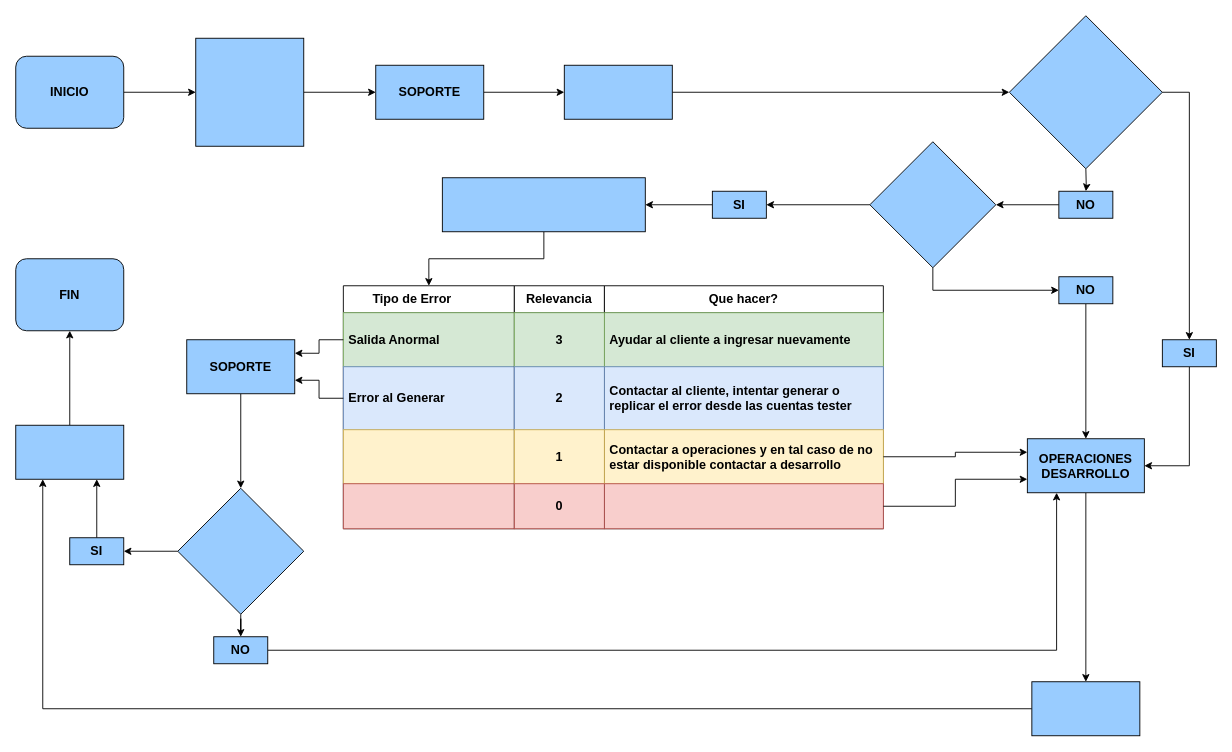
Image size: 1232x752. Some labels were removed from this diagram. Here are the shapes that lost their labels. From the top down, the centre of each, then its label:
At pixel 249 91: "Cliente contacta vía Email Llamada Otro".
At pixel 617 91: "Identificar tipo de error".
At pixel 1085 92: "Error referente a Ingenieria de PayDayCloud".
At pixel 543 204: "Relacionar el problema del cliente e identificar el nivel la relevancia del caso".
At pixel 932 204: "Cuenta Demo PayDayCoud Funciona".
At pixel 69 451: "CLIENTE".
At pixel 428 456: "Error de Ingenieria de PayDayCloud".
At pixel 428 506: "Error de Pagina Web".
At pixel 743 506: "Contactar a operaciones o desarrollo de inmediato".
At pixel 240 550: "Solucionado?".
At pixel 1085 708: "Tiempo de resolución de problemas".
